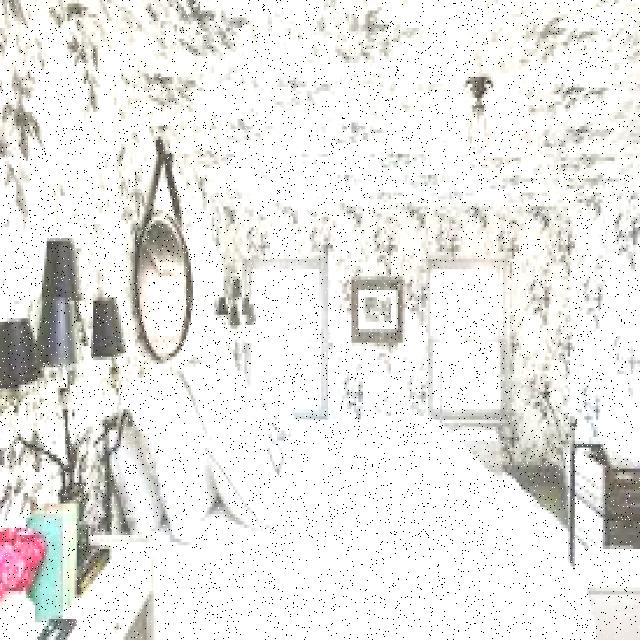bed: (117, 331, 593, 636)
